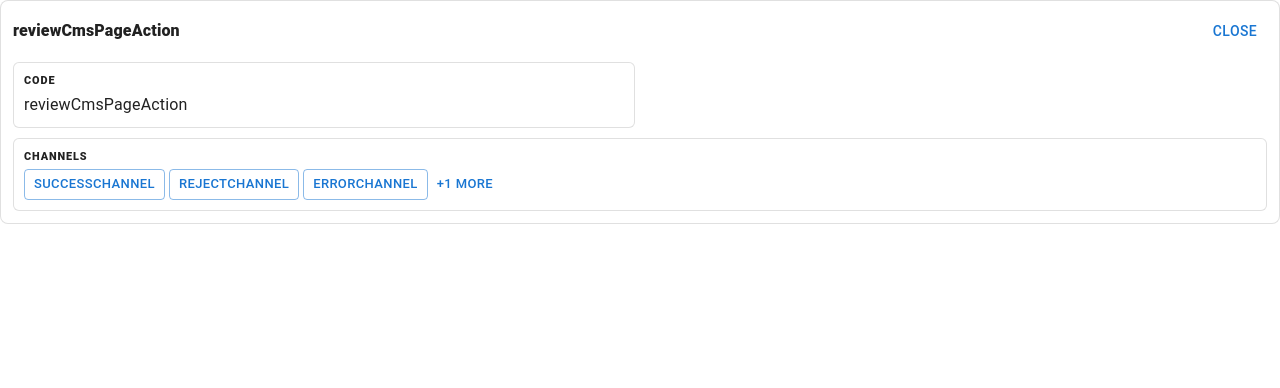
Test: WorkbenchRecordDetail › expands additional one-to-many detail references before opening them
Expected: the button "auditChannel" is not shown
Step 1. Click the button "+1 more" → [465, 184], box [432,169,498,200]
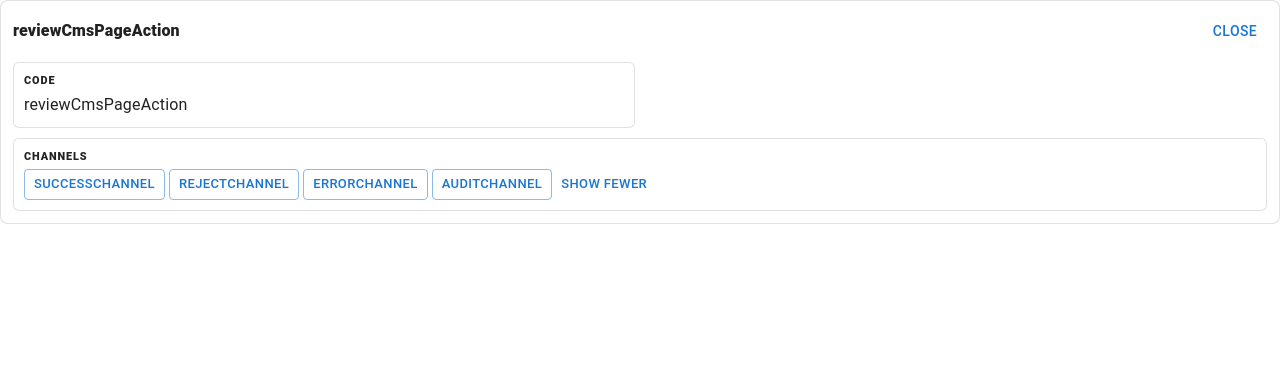
Step 2. Click the button "auditChannel" → [492, 184], box [432,169,552,200]
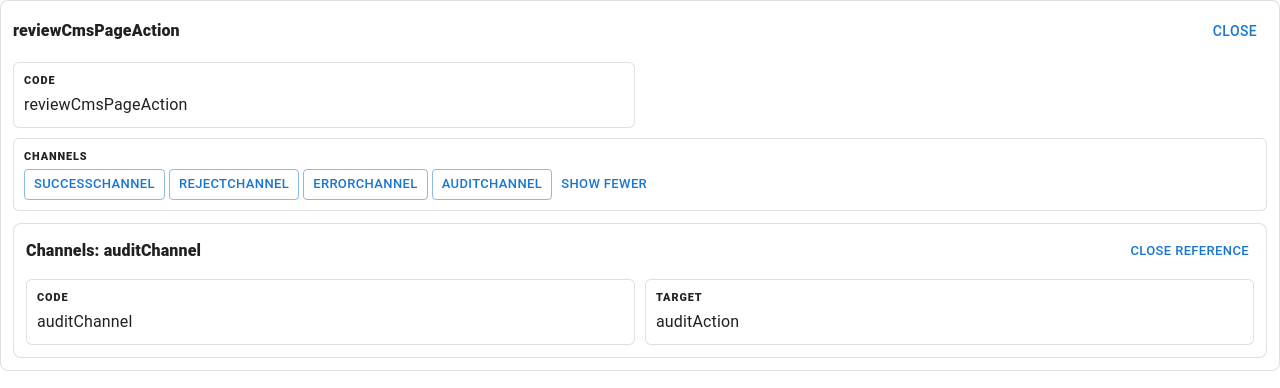
Expected: the heading "Channels: auditChannel" is shown, [26,237,201,265]
Expected: the text "auditAction" is shown, [656,312,739,331]
